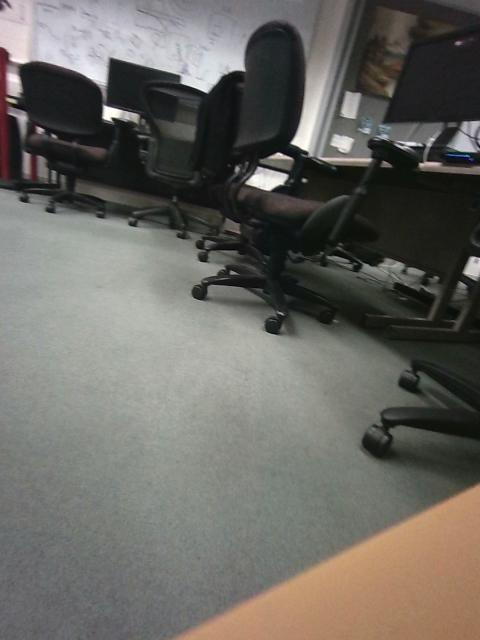block: (268, 339, 325, 381)
